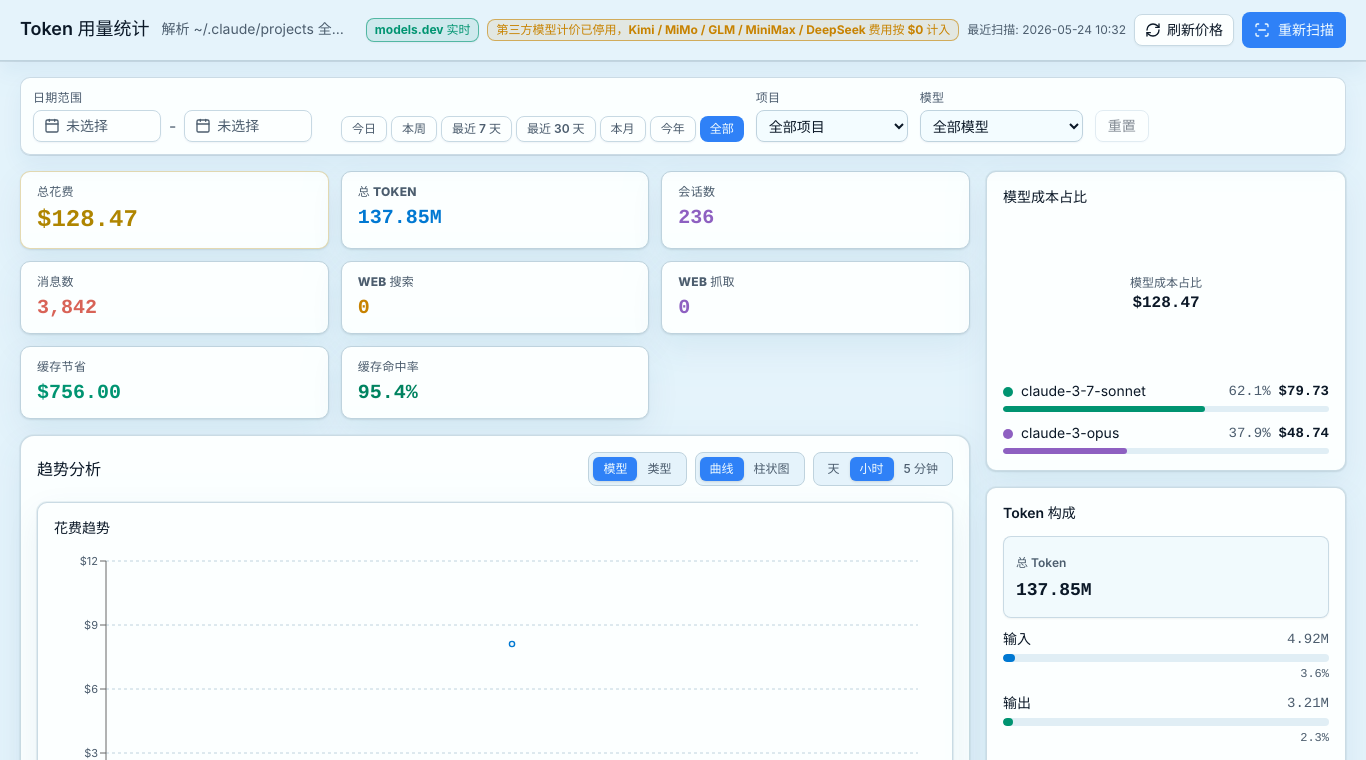
Test: UsagePage cost cockpit › shows third-party pricing disabled details in the model pricing dialog
Click the button with aria-label "查看模型价目表".
click(423, 30)  # box [366,18,479,42]
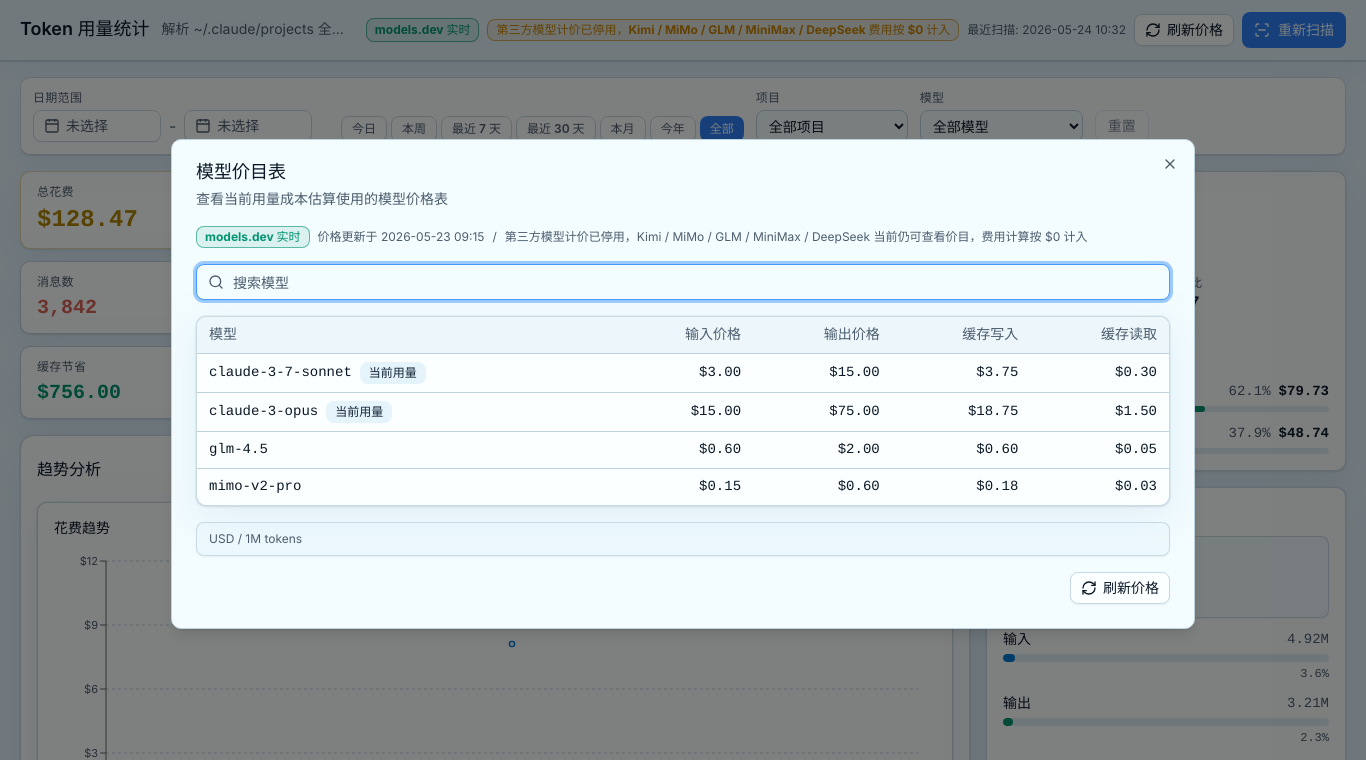
Expected: the text "第三方模型计价已停用，Kimi / MiMo / GLM / MiniMax / DeepSeek 当前仍可查看价目，费用计算按 $0 计入" is shown, [505,229,1088,245]
